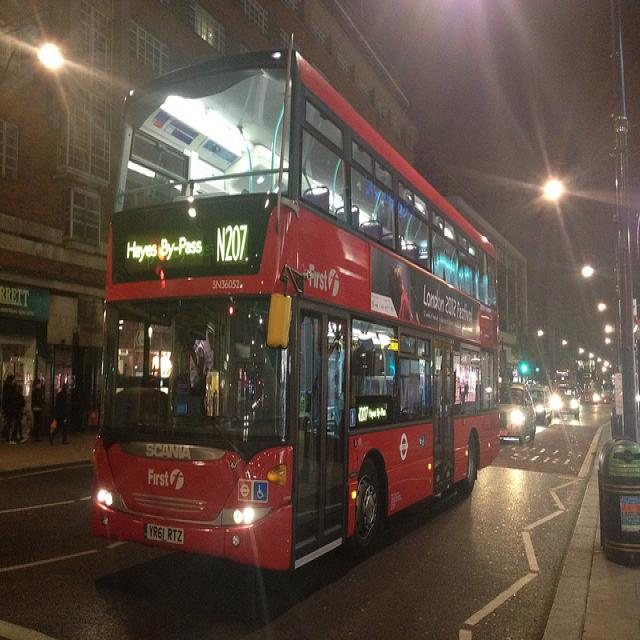Bus: (105, 63, 500, 619)
People: (26, 360, 61, 461), (0, 359, 28, 450), (56, 366, 74, 451)
car: (472, 365, 545, 470), (514, 365, 561, 453), (578, 361, 625, 435), (547, 358, 583, 442)
